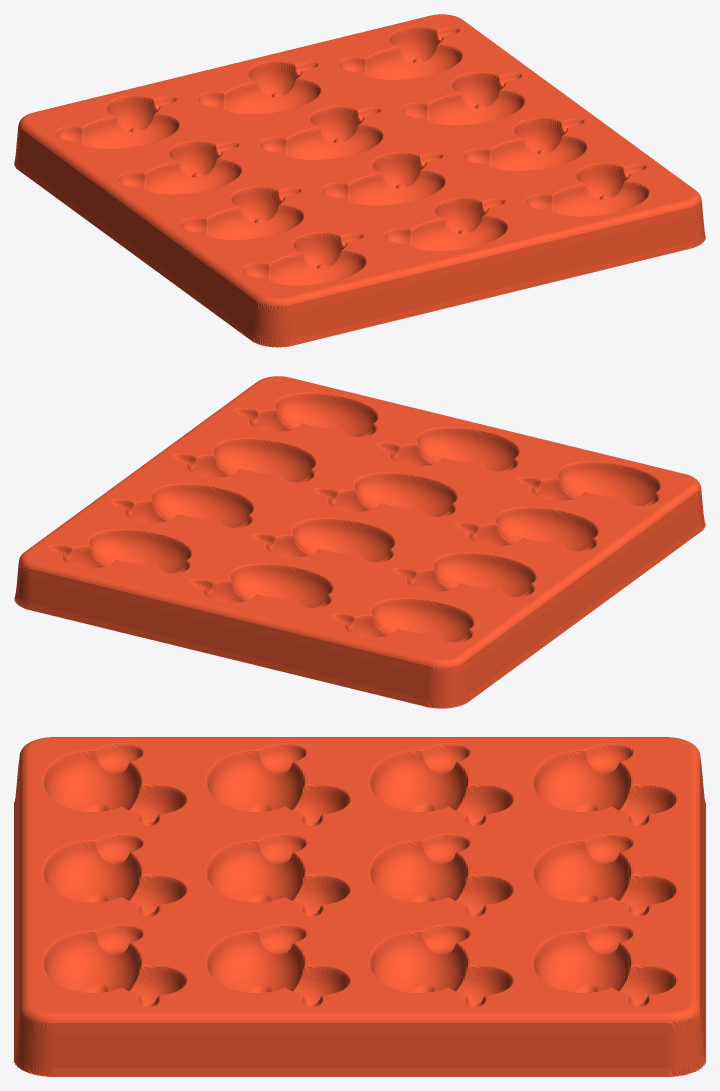
Rendered from mold.glb.
3 renders of one model, top to bottom at view 1: azimuth 30°, elevation 25°; view 2: azimuth 150°, elevation 25°; view 3: azimuth 270°, elevation 25°, orthographic. The views are drawn at different scales.
Parts seen in each view (by area): view 1: geometry_0; view 2: geometry_0; view 3: geometry_0.
Part boxes in pixels (<box>): geometry_0: <box>14,14,705,347</box>; geometry_0: <box>14,376,705,708</box>; geometry_0: <box>14,737,705,1076</box>.
Bounding box in the file's own units: 0.1554 × 0.0145 × 0.1578.
